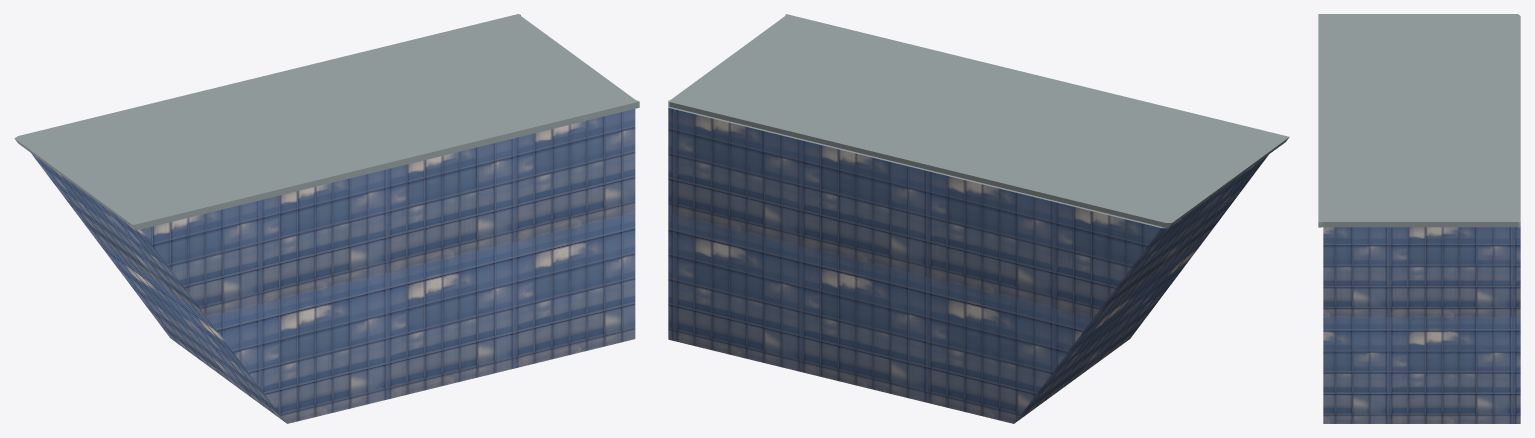
The model's file is Rapogen building.glb.
3 renders of one model, left to right at view 1: azimuth 30°, elevation 25°; view 2: azimuth 150°, elevation 25°; view 3: azimuth 270°, elevation 25°, orthographic. The views are drawn at different scales.
Visible parts, largest first — view 1: Rapogen_building; view 2: Rapogen_building; view 3: Rapogen_building.
Boxes of the visible parts, x1,y1,x2,y2 form: Rapogen_building: [14, 14, 639, 423]; Rapogen_building: [668, 14, 1289, 423]; Rapogen_building: [1318, 14, 1520, 423].
Bounding box in the file's own units: 1.59 × 0.7182 × 0.6526.
2 materials, 2 textured.
